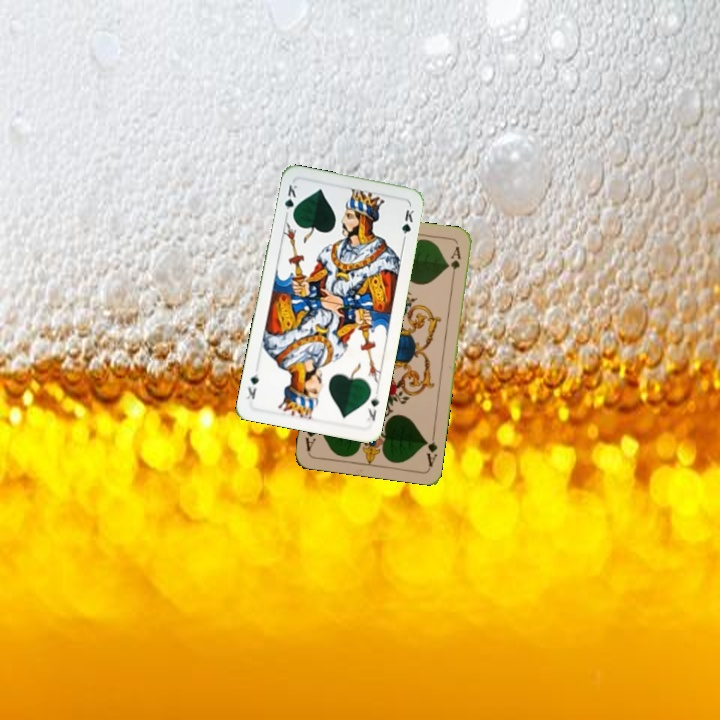GA: (421, 428, 440, 469)
GK: (280, 181, 300, 220), (363, 392, 381, 423)
